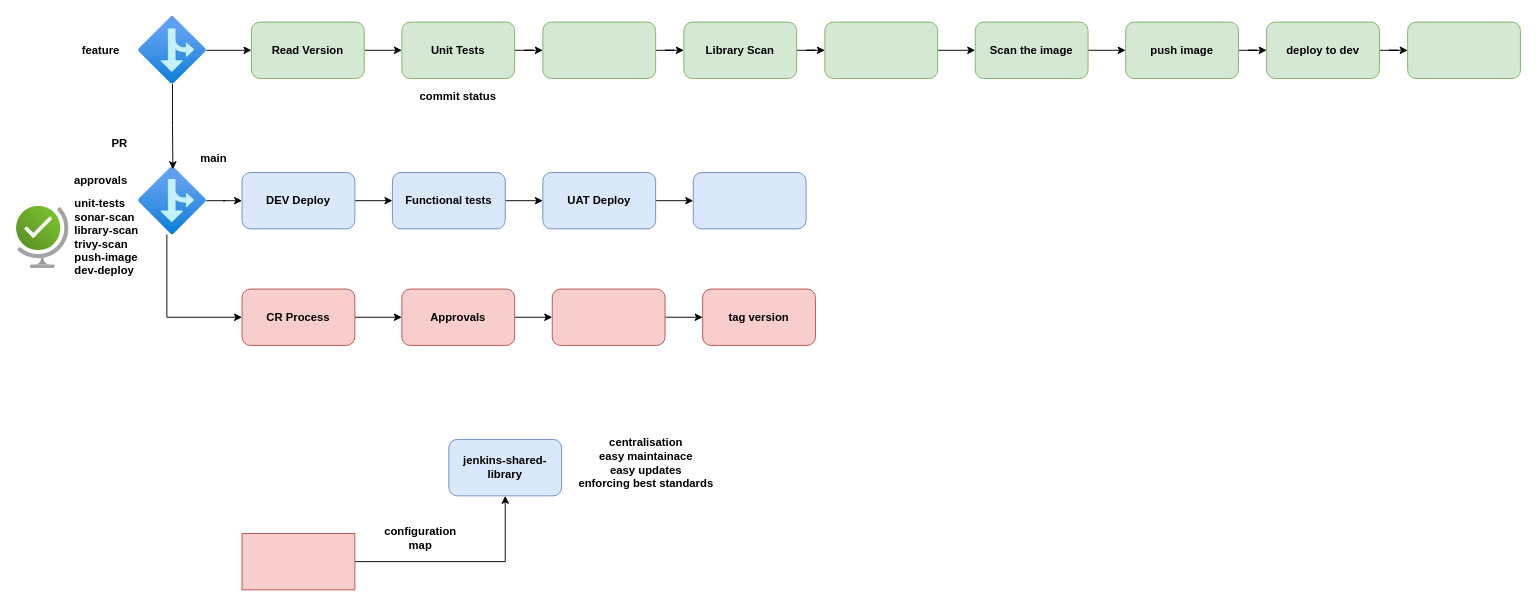
Some shapes in this 1537 by 606 pixel diagram are drawn without their labels. Here are the shapes that lost their labels. From the top down, the centre of each, then its label:
point (599, 49): Sonar Scan
point (881, 49): Build Image
point (1463, 49): api/functional testing
point (749, 200): E2E/Integration testing
point (608, 316): Trigger to PROD
point (298, 561): catalogue
